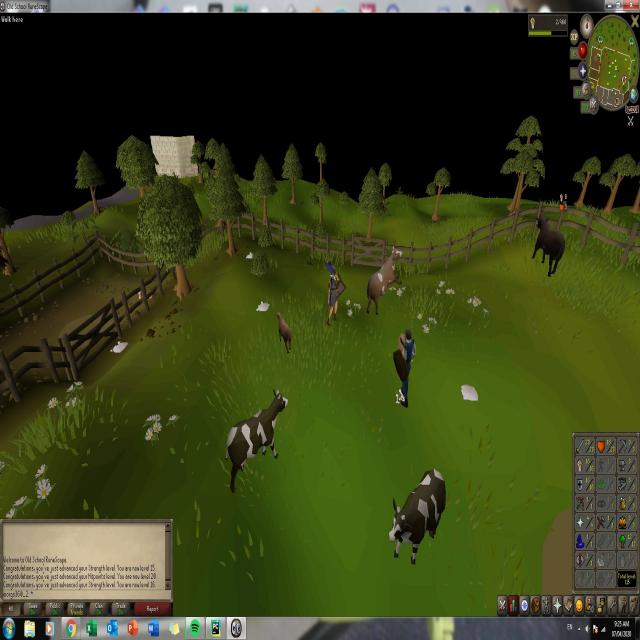cow: (225, 386, 288, 492), (389, 461, 446, 564), (365, 242, 402, 314), (530, 213, 565, 278)
